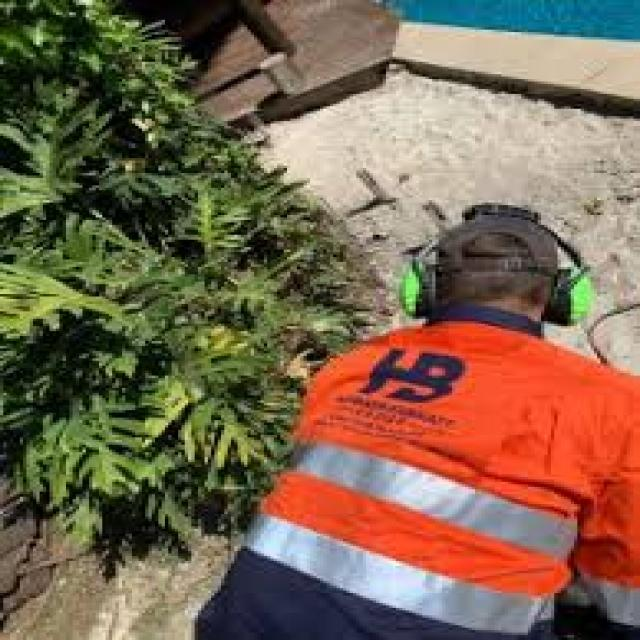Reflective-Jacket: (231, 314, 640, 635)
